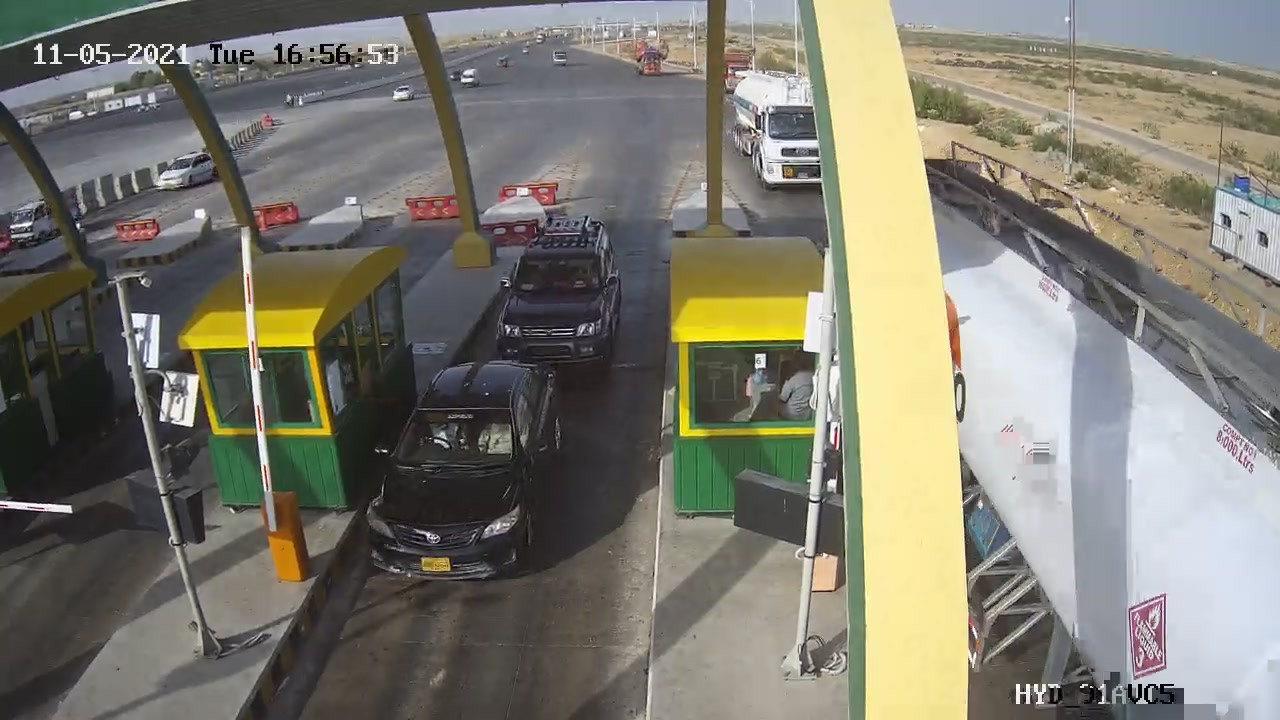F1: (350, 343, 589, 607), (475, 203, 644, 388)
